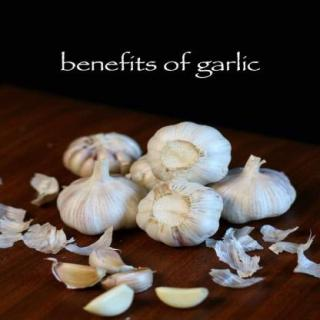Bawang Putih: (137, 179, 223, 248), (147, 121, 233, 186), (58, 178, 144, 235), (213, 168, 297, 224)
